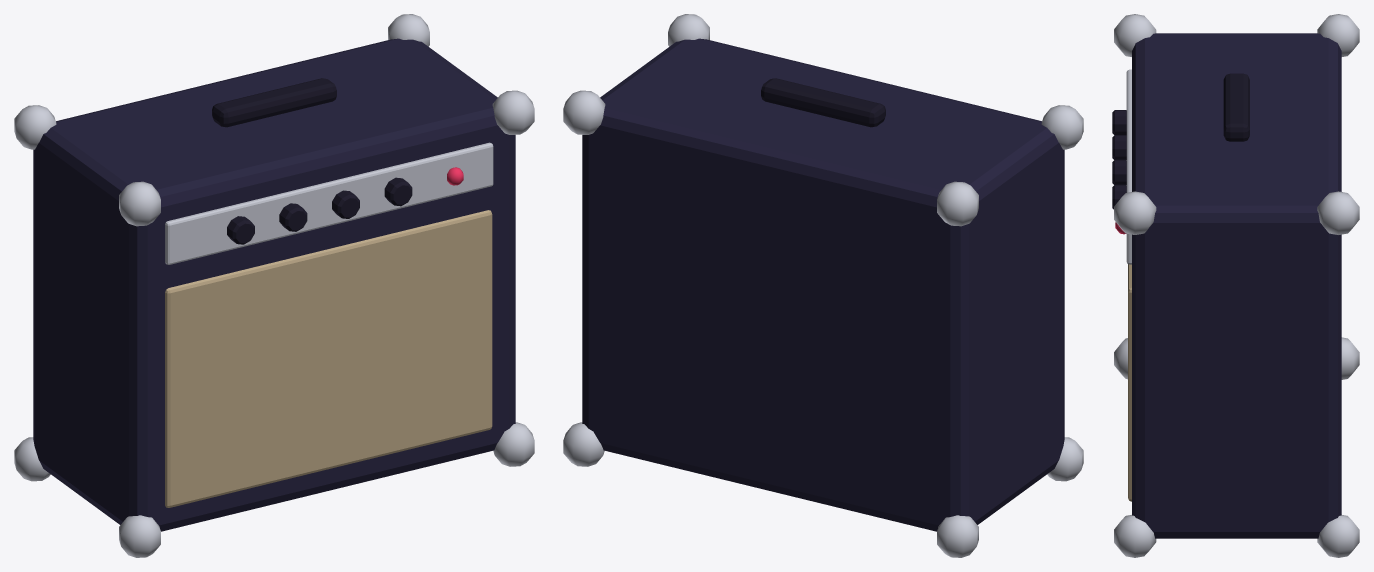
Rendered from amp.glb.
3 renders of one model, left to right at view 1: azimuth 30°, elevation 25°; view 2: azimuth 150°, elevation 25°; view 3: azimuth 270°, elevation 25°, orthographic. The views are drawn at different scales.
Parts seen in each view (by area): view 1: amp; view 2: amp; view 3: amp.
Boxes of the visible parts, x1,y1,x2,y2 form: amp: (14,14,534,557); amp: (563,14,1083,557); amp: (1112,14,1359,557).
Size of the model in its own units: 0.7049 by 0.6206 by 0.3775.
